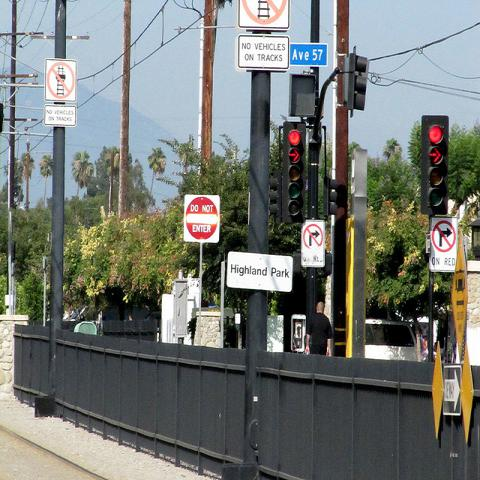car: (364, 319, 418, 361)
